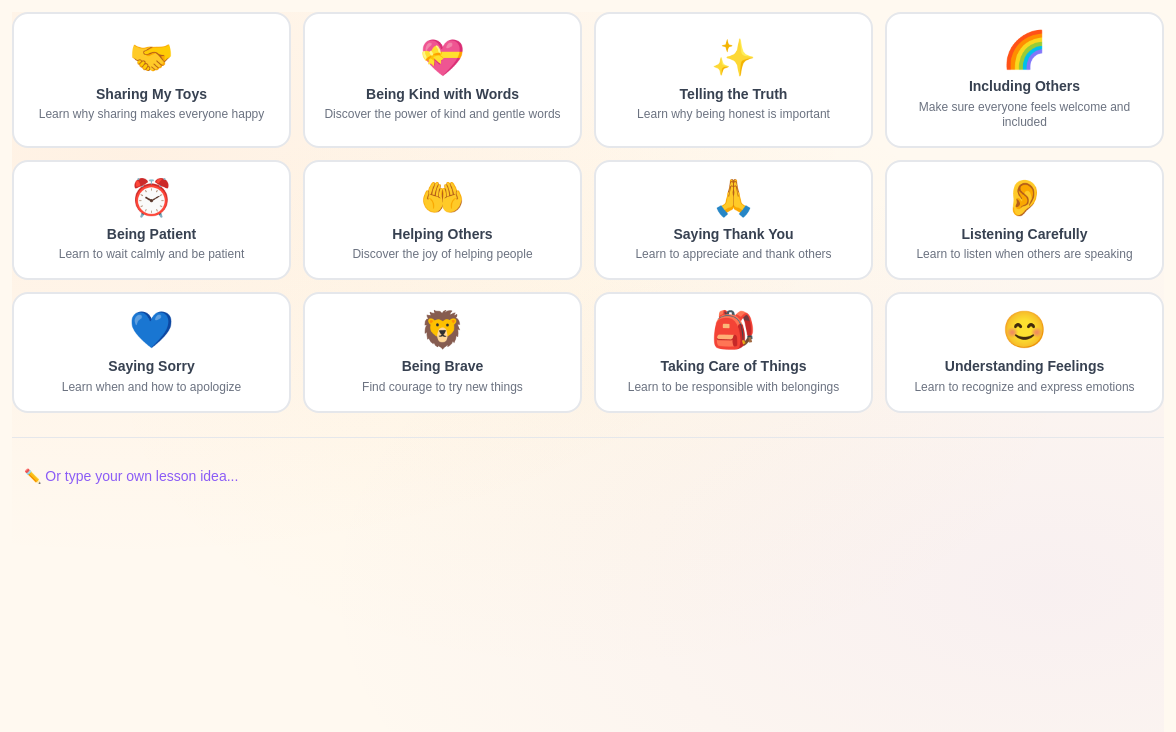
Scenario: LessonSelector › Validation Failure Handling (Requirement 4.6) › predefined lessons remain accessible after validation failure
The width and height of the screenshot is (1176, 732).
Step 1. Click the button "✏️ Or type your own lesson idea..." → (131, 476), box x1=12 y1=454 x2=250 y2=498
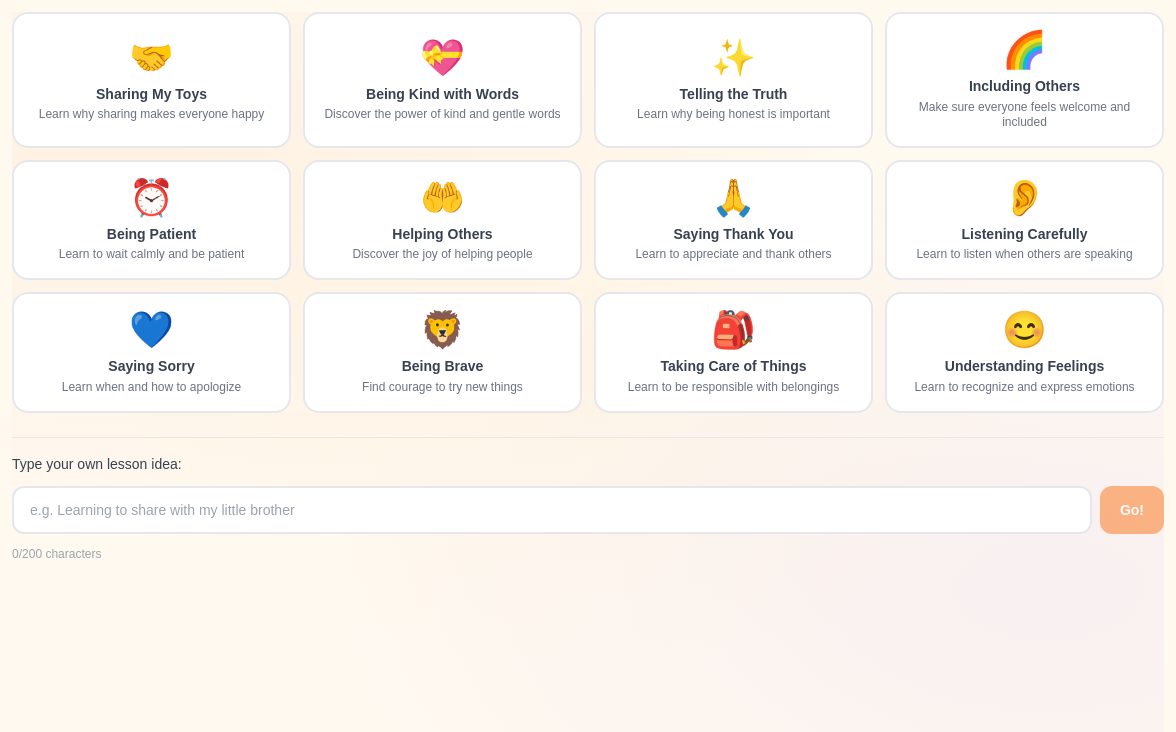
Step 2. Type "bad topic" into the field labelled "Type your own lesson idea:" → (552, 510), box x1=12 y1=486 x2=1092 y2=534
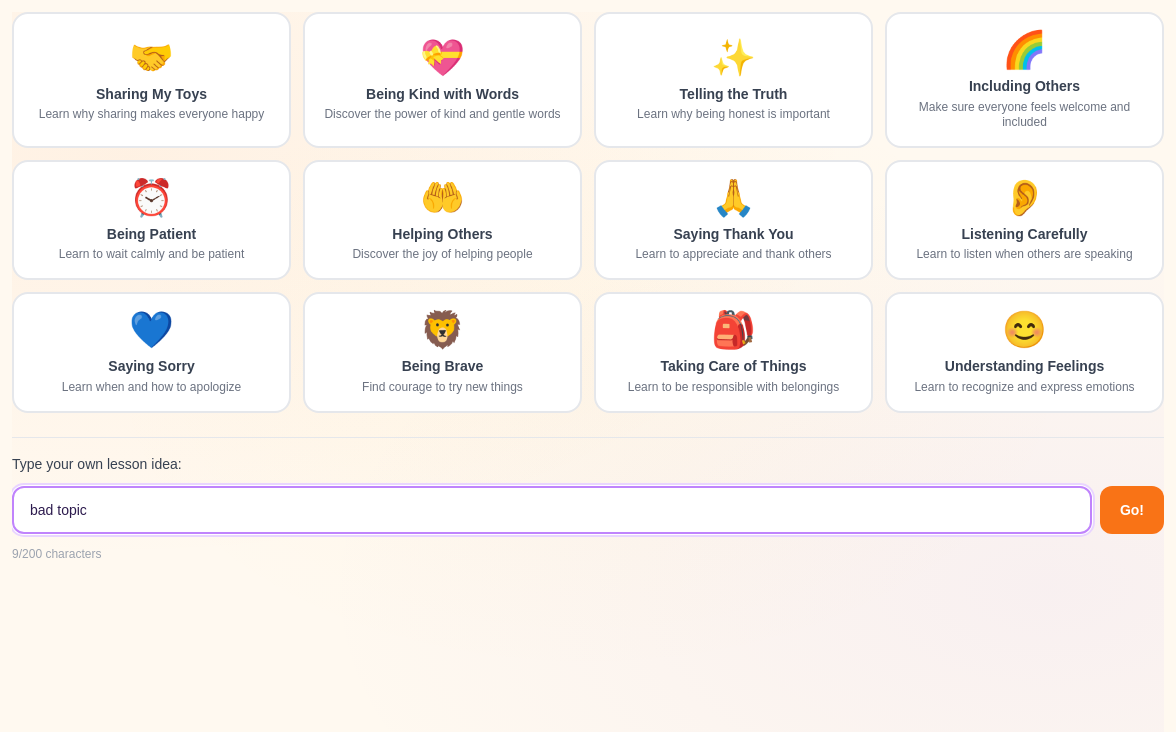
Step 3. Click the button with aria-label "submit custom lesson" → (1132, 510), box x1=1100 y1=486 x2=1164 y2=534
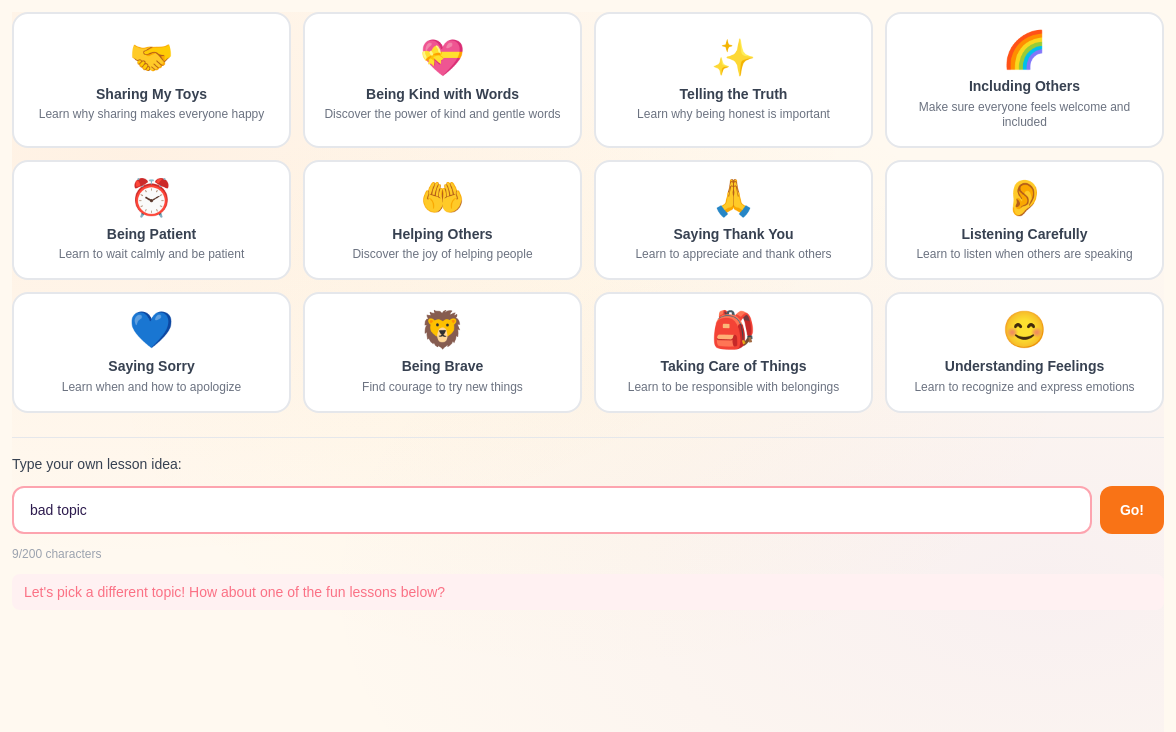
Expected: the message "Let's pick a different topic! How about one of the fun lessons below?" is shown, x1=12 y1=574 x2=1164 y2=610
